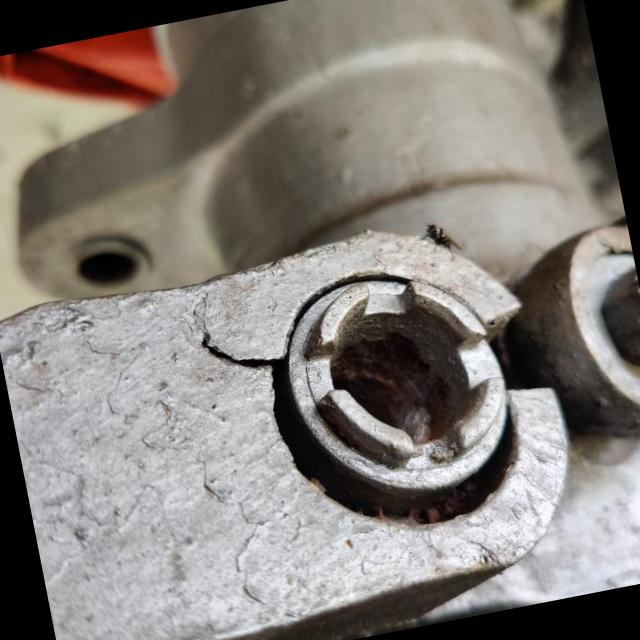Crack: (180, 299, 283, 383)
